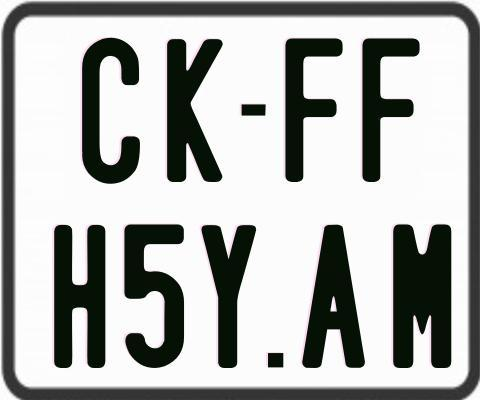5: (121, 223, 183, 368)
A: (302, 222, 371, 367)
C: (82, 35, 145, 182)
F: (285, 36, 347, 181), (362, 36, 424, 180)
H: (52, 222, 109, 369)
K: (165, 39, 224, 187)
M: (390, 223, 454, 370)
Y: (201, 225, 256, 372)
